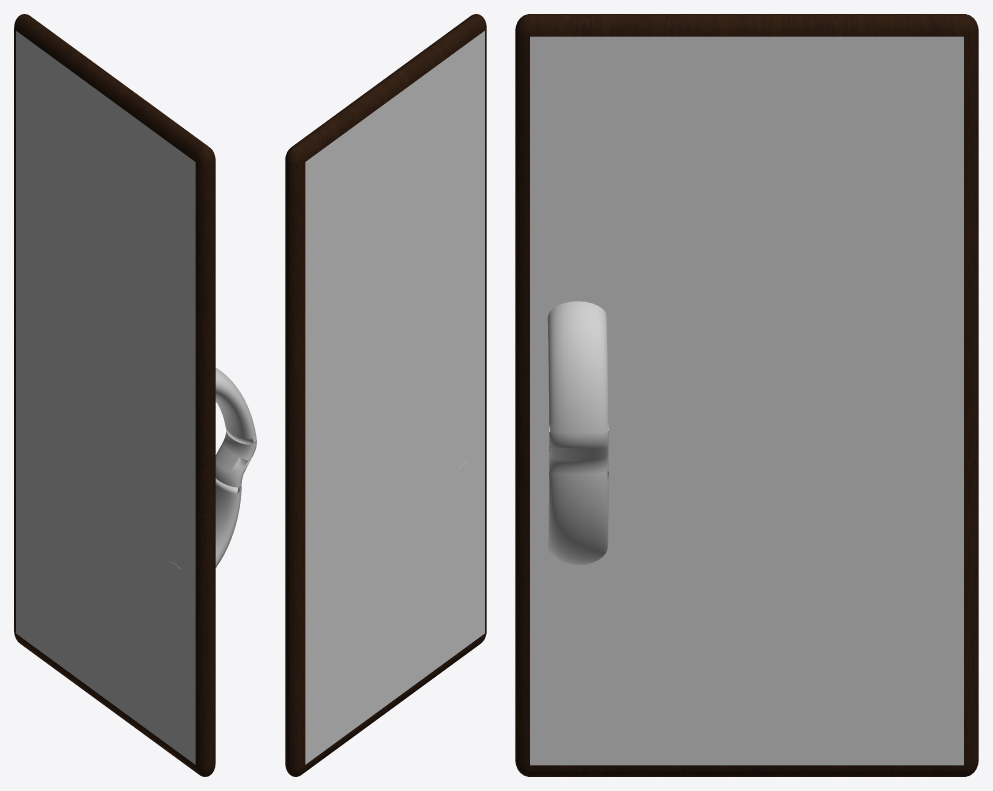
File: T Door (Right).fbx
The picture shows the model from 3 angles, left to right: view 1: azimuth 30°, elevation 25°; view 2: azimuth 150°, elevation 25°; view 3: azimuth 270°, elevation 25°; orthographic projection. The views are drawn at different scales.
Parts seen in each view (by area): view 1: Door_2, Door_1, Handle_; view 2: Door_2, Door_1; view 3: Door_2, Door_1, Handle_.
Boxes of the visible parts, x1,y1,x2,y2 form: Door_2: (16, 31, 195, 764); Door_1: (14, 14, 215, 776); Handle_: (168, 368, 256, 568); Door_2: (305, 31, 484, 764); Door_1: (285, 14, 486, 776); Door_2: (530, 36, 963, 765); Door_1: (515, 14, 978, 776); Handle_: (547, 301, 608, 565).
Size of the model in its own units: 9.69 by 77.22 by 42.61.
